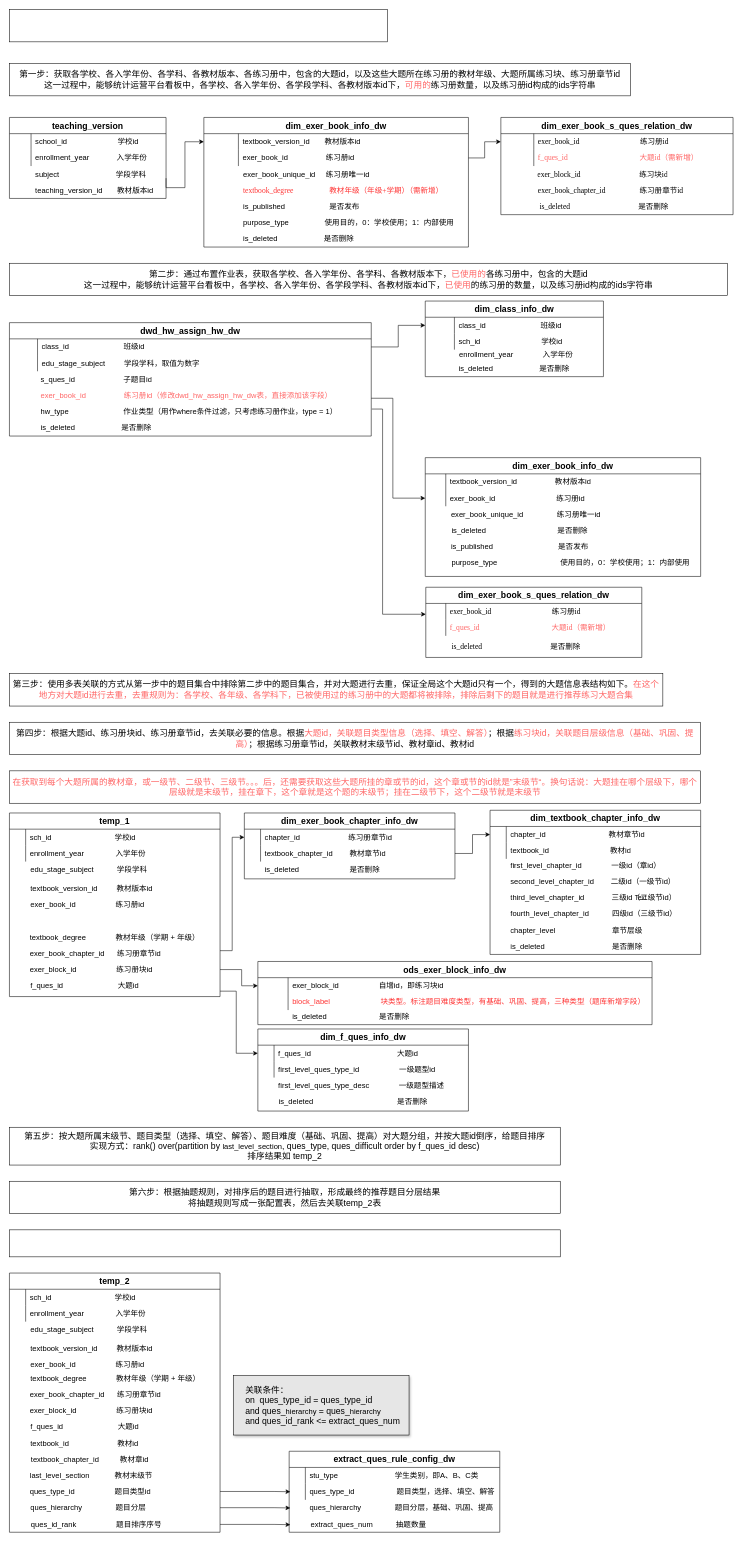
Image size: 743x1543. Some labels were removed from this diagram. Each missing label, with the centre of its shape:
第七步：对关联之后的表，进行分组，并最终形成大题ids: (x=284, y=1243)
题目分层数据流程图，在进行题目分层的过程中，能够将运营平台的看板所需数据指标一并统计了: (x=198, y=25)
